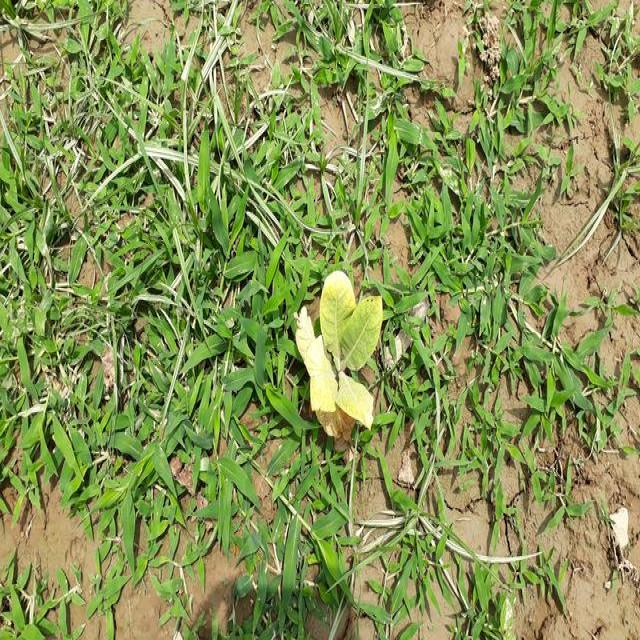crop: (284, 256, 394, 442)
